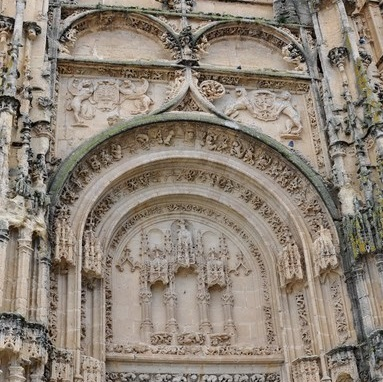arco-conopial: (76, 75, 297, 149)
